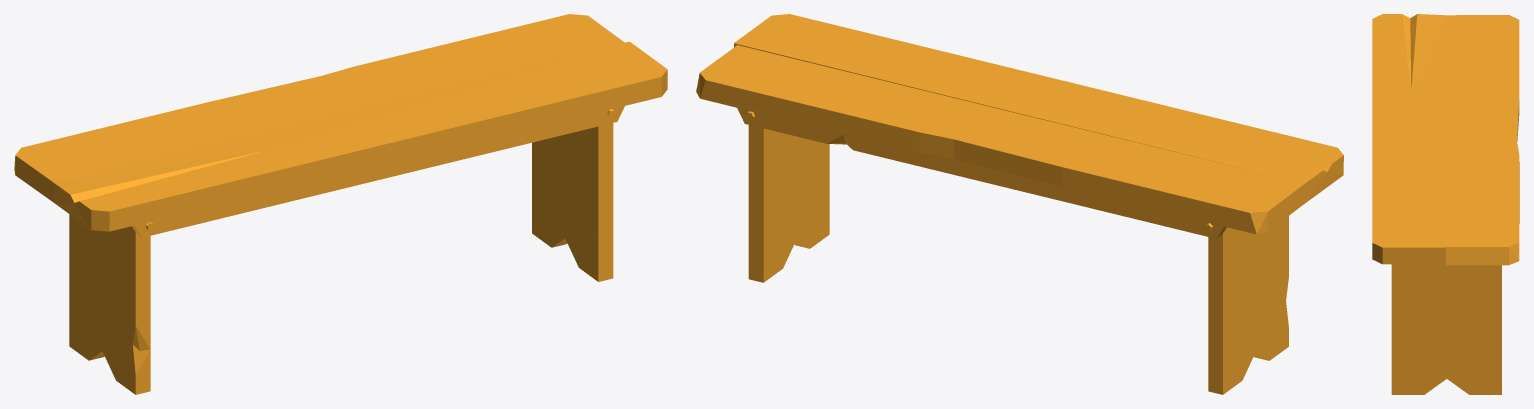
Rendered from SM_Bench_Garden_Simple_A.fbx.
3 renders of one model, left to right at view 1: azimuth 30°, elevation 25°; view 2: azimuth 150°, elevation 25°; view 3: azimuth 270°, elevation 25°, orthographic. The views are drawn at different scales.
Parts seen in each view (by area): view 1: bench-garden-simple-a; view 2: bench-garden-simple-a; view 3: bench-garden-simple-a.
Part boxes in pixels (x1=…): bench-garden-simple-a: x1=14, y1=14, x2=667, y2=394; bench-garden-simple-a: x1=696, y1=14, x2=1343, y2=394; bench-garden-simple-a: x1=1372, y1=14, x2=1519, y2=394.
Size of the model in its own units: 1.5 by 0.5 by 0.3997.
